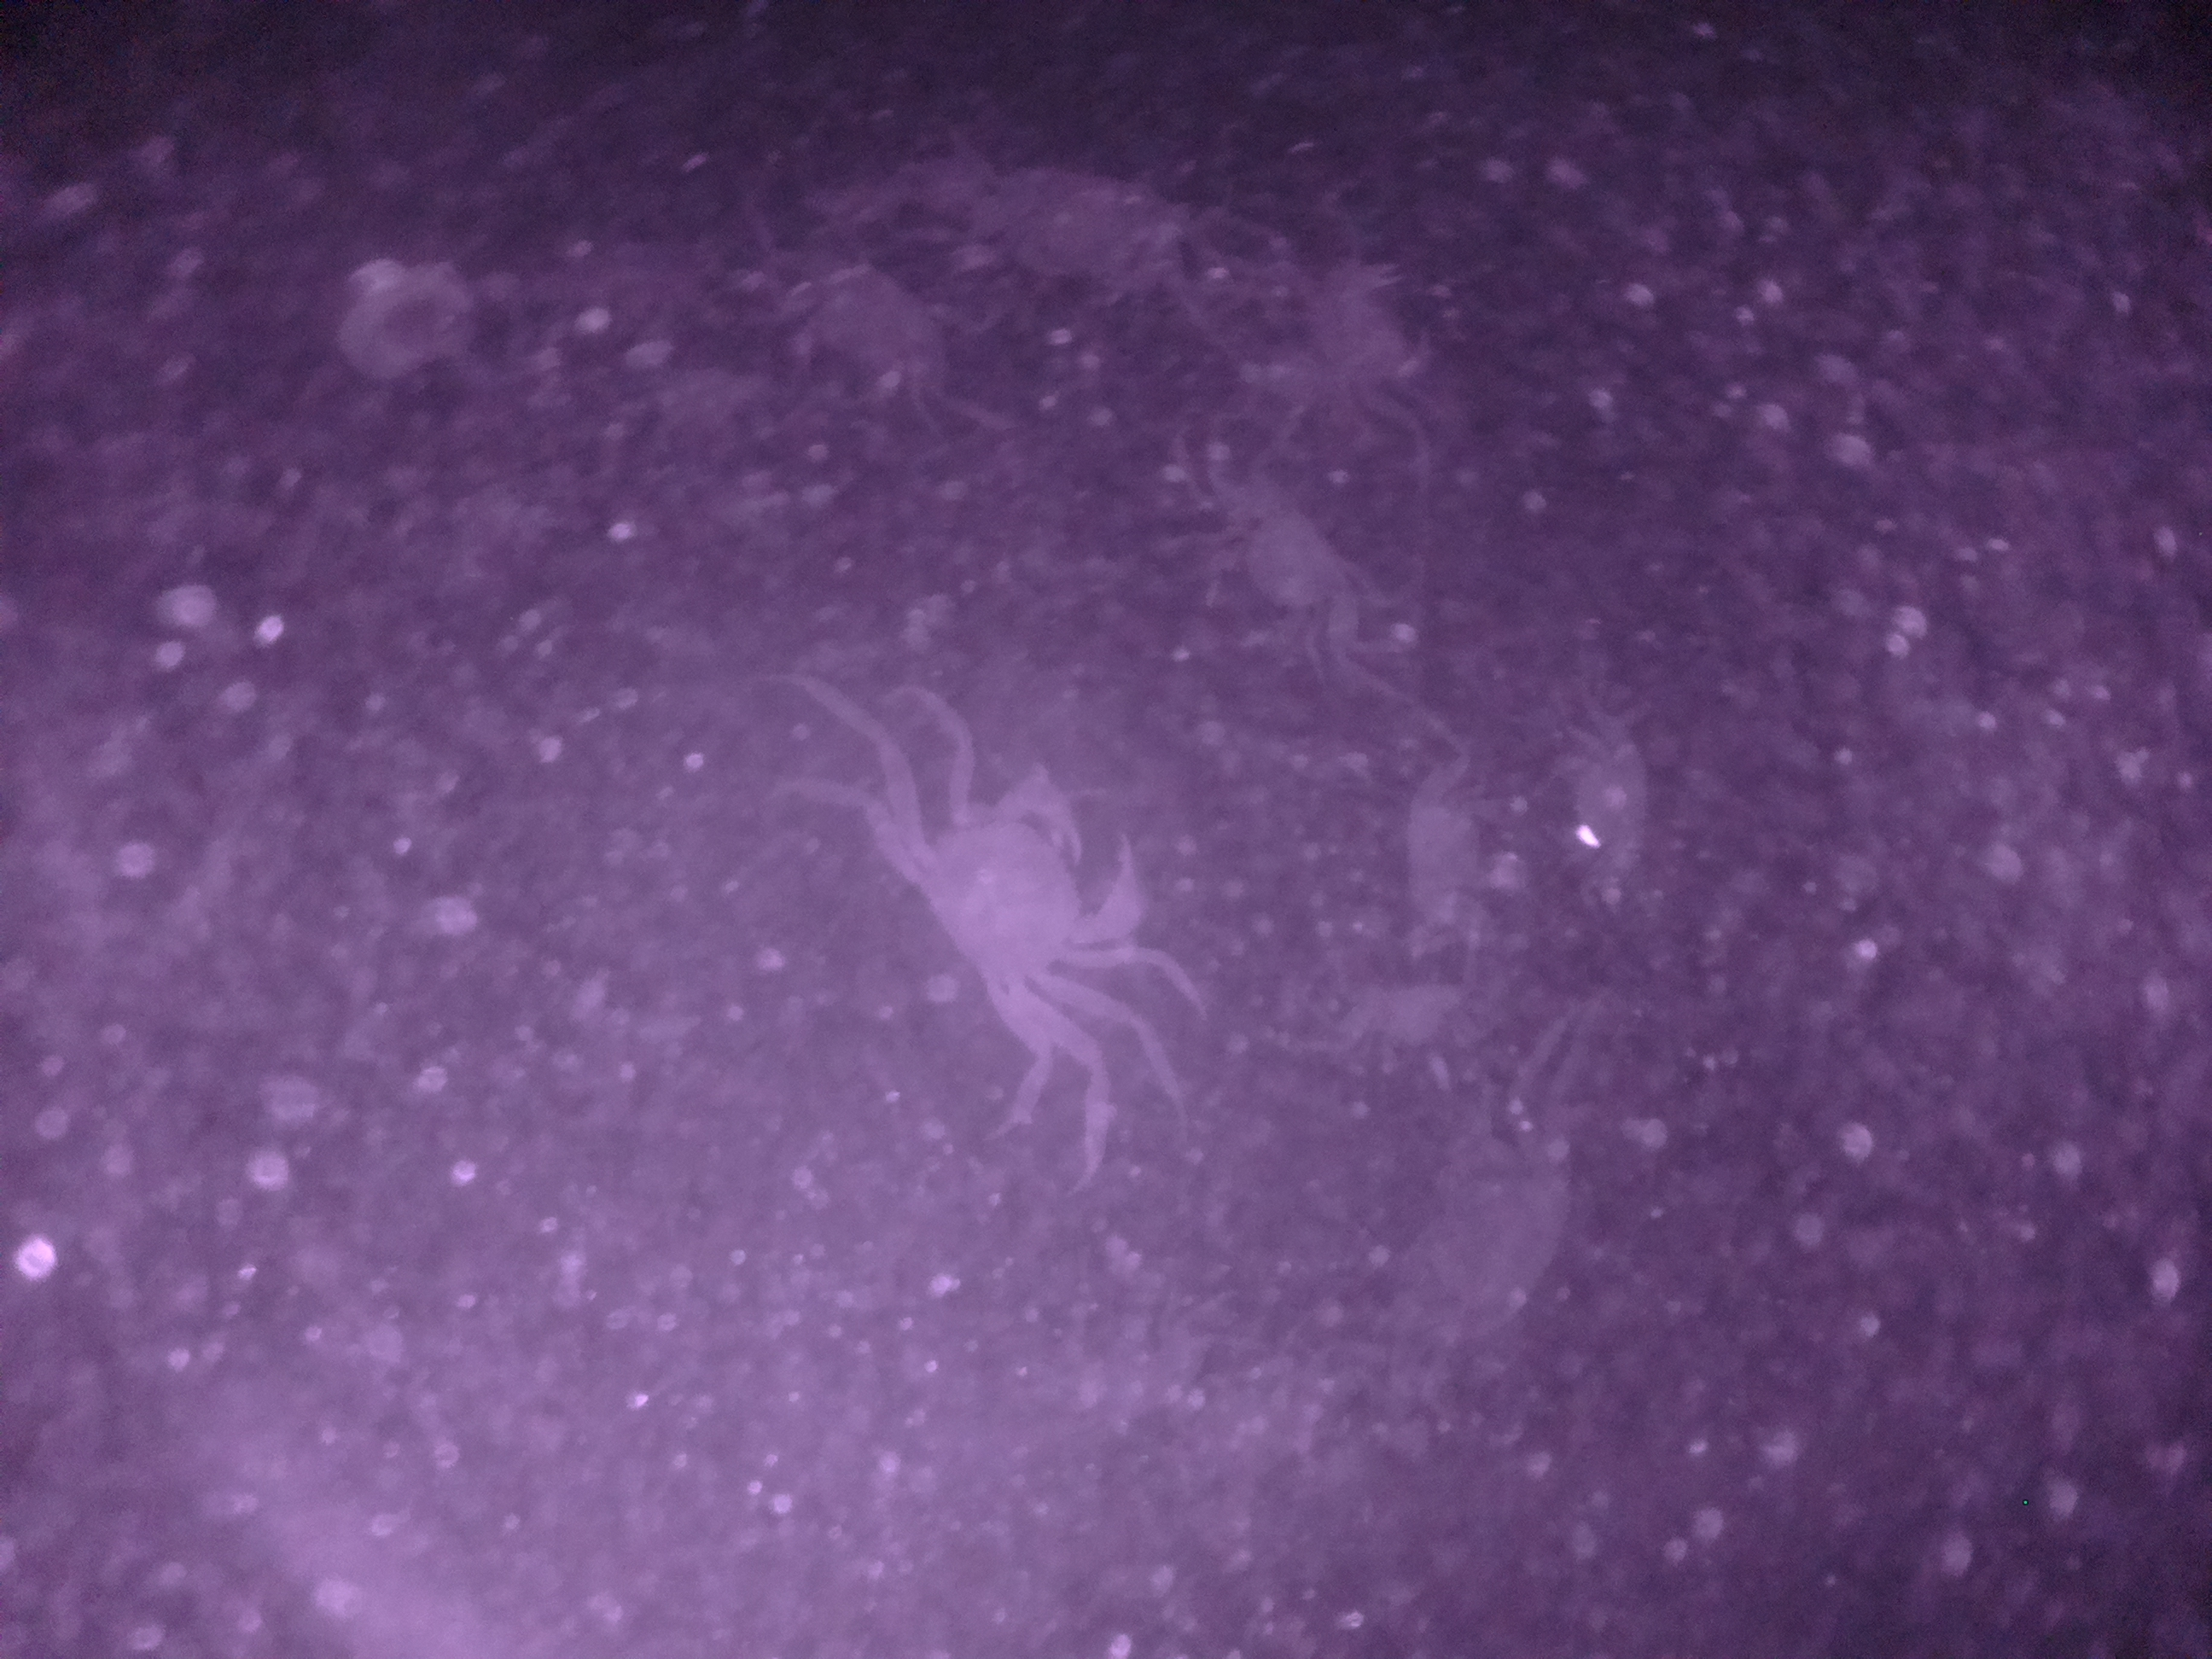Crab: (897, 739, 1163, 1006), (1200, 467, 1390, 653)
